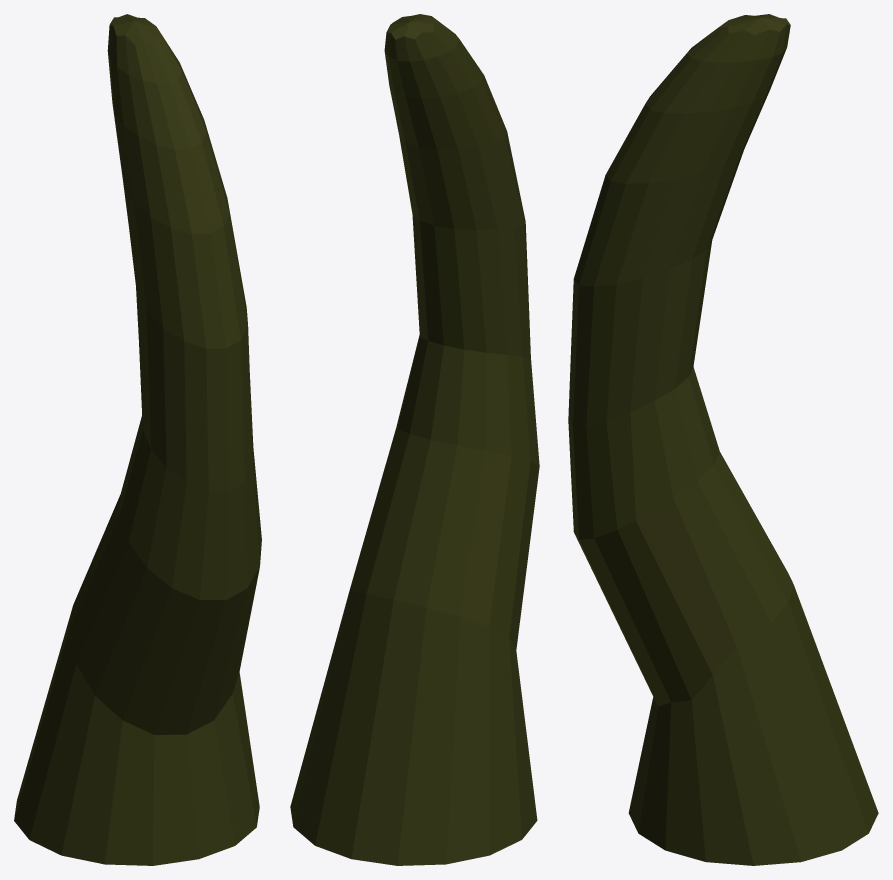
File: tree_top.fbx
3 views of the same model, side by side, from view 1: azimuth 30°, elevation 25°; view 2: azimuth 150°, elevation 25°; view 3: azimuth 270°, elevation 25° (orthographic).
Visible parts, largest first — view 1: tree_top; view 2: tree_top; view 3: tree_top.
Boxes of the visible parts, x1=… form: tree_top: x1=14, y1=14, x2=261, y2=865; tree_top: x1=290, y1=14, x2=539, y2=865; tree_top: x1=568, y1=14, x2=878, y2=865.
Size of the model in its own units: 67.36 by 237 by 83.61.
